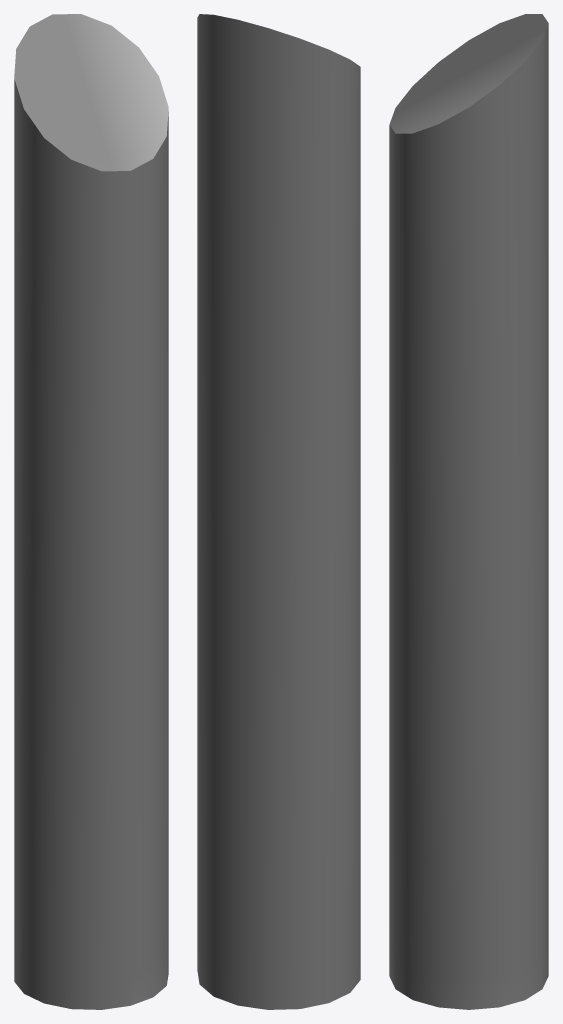
File: prop_Pillar.fbx
The picture shows the model from 3 angles, left to right: view 1: azimuth 30°, elevation 25°; view 2: azimuth 150°, elevation 25°; view 3: azimuth 270°, elevation 25°; orthographic projection. The views are drawn at different scales.
Visible parts, largest first — view 1: prop_Pillar; view 2: prop_Pillar; view 3: prop_Pillar.
Boxes of the visible parts, box(x1,y1,x2,y2) form: prop_Pillar: box(14, 14, 168, 1009); prop_Pillar: box(197, 14, 360, 1009); prop_Pillar: box(389, 14, 548, 1009).
Size of the model in its own units: 298 by 1973 by 298.
